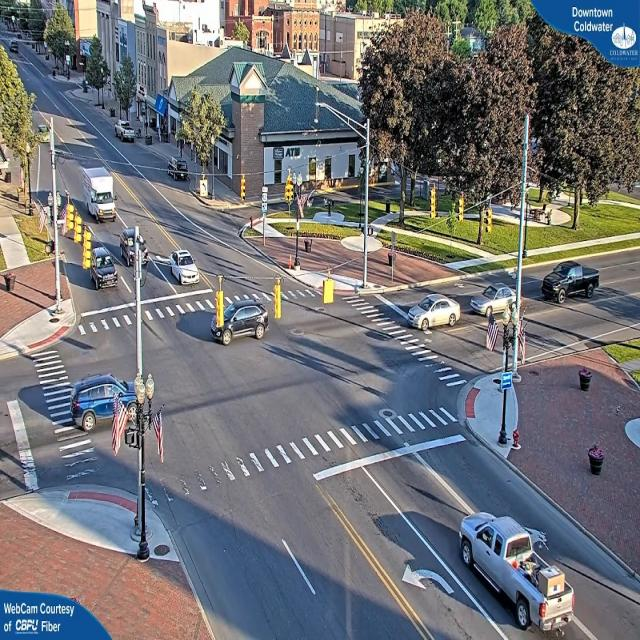car: (456, 511, 573, 617), (70, 374, 141, 432), (211, 300, 267, 348), (542, 262, 601, 300), (471, 282, 522, 318), (412, 294, 458, 330), (168, 250, 201, 286), (90, 253, 117, 287), (120, 230, 144, 266), (116, 123, 136, 143)
truck: (79, 163, 119, 223)
